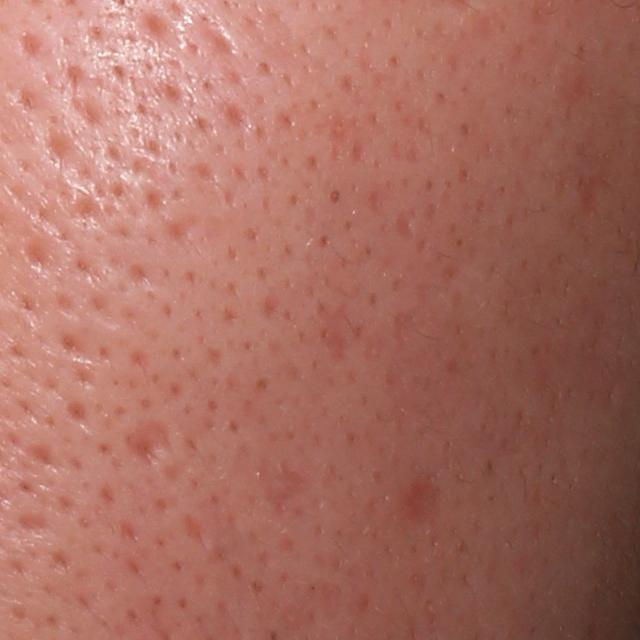atrophic_scar: (250, 456, 311, 525), (387, 466, 447, 528), (192, 12, 246, 68), (124, 416, 172, 469), (131, 1, 179, 44), (74, 88, 117, 133), (22, 237, 62, 280), (217, 97, 253, 133), (17, 510, 57, 539), (182, 509, 210, 547)
